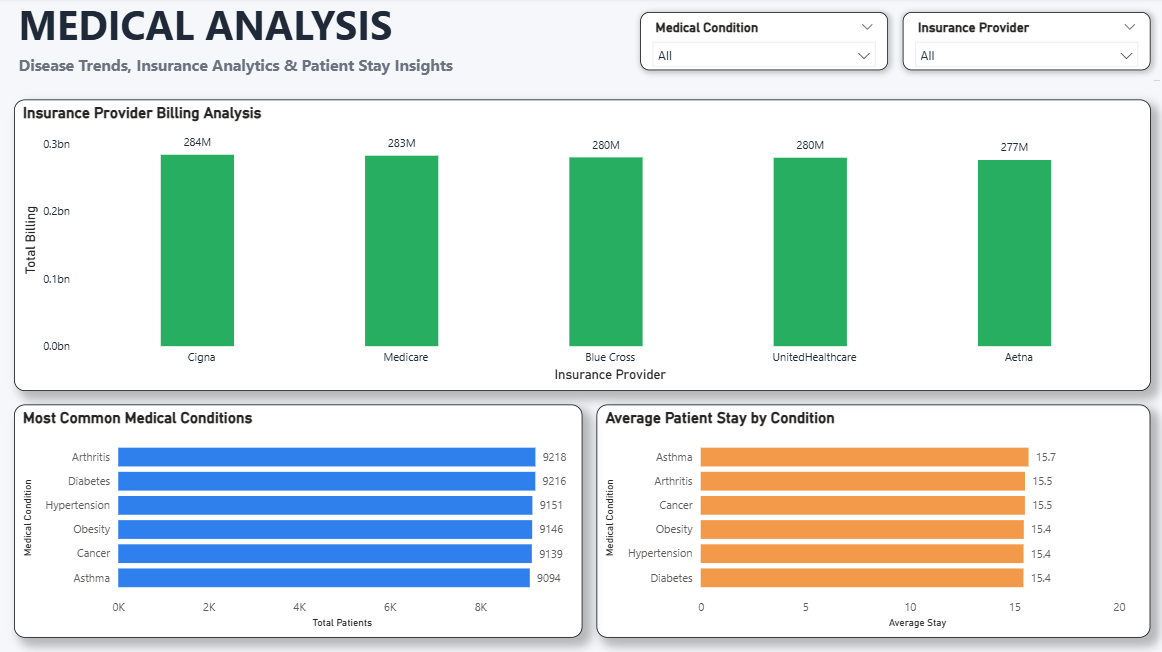

Layout of this report page (visuals, bound fields, positions):
{"tool":"powerbi","page":{"name":"Page 2","canvas":[1280,720],"ordinal":1},"visuals":[{"type":"clusteredBarChart","title":"Average Patient Stay by Condition","fields":{"Category":["healthcare_dataset.Medical Condition"],"Y":["healthcare_dataset.Average Stay"]},"box":[656,448,608,256],"z":0},{"type":"textbox","title":"MEDICAL ANALYSIS","box":[16,0,1264,96],"z":1000},{"type":"slicer","fields":{"Values":["healthcare_dataset.Medical Condition"]},"box":[704,16,272,64],"z":2000},{"type":"slicer","fields":{"Values":["healthcare_dataset.Insurance Provider"]},"box":[992,16,272,64],"z":3000},{"type":"clusteredColumnChart","title":"Insurance Provider Billing Analysis","fields":{"Category":["healthcare_dataset.Insurance Provider"],"Y":["healthcare_dataset.Total Billing"]},"box":[16,112,1248,320],"z":4000},{"type":"clusteredBarChart","title":"Most Common Medical Conditions","fields":{"Category":["healthcare_dataset.Medical Condition"],"Y":["healthcare_dataset.Total Patients"]},"box":[16,448,624,256],"z":5000}]}

Visuals, with their boxes in screenshot pixels (x1, y1, x2, y2), scaled from the page's 1280x720 canvas onto the 1162x652 screenshot:
"Average Patient Stay by Condition" clusteredBarChart: select_region(596, 406, 1147, 638)
"MEDICAL ANALYSIS" textbox: select_region(15, 0, 1161, 87)
slicer - healthcare_dataset.Medical Condition: select_region(639, 14, 886, 72)
slicer - healthcare_dataset.Insurance Provider: select_region(901, 14, 1147, 72)
"Insurance Provider Billing Analysis" clusteredColumnChart: select_region(15, 101, 1147, 391)
"Most Common Medical Conditions" clusteredBarChart: select_region(15, 406, 581, 638)
